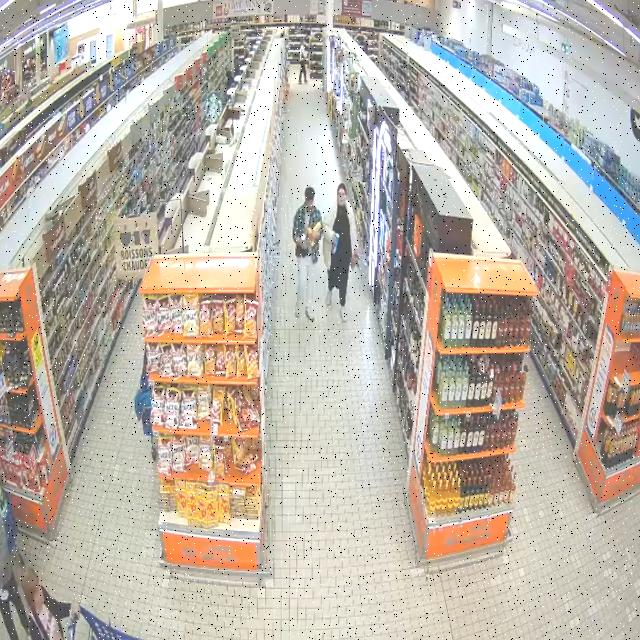article: (350, 249, 360, 271), (331, 233, 339, 254), (312, 221, 324, 232), (306, 228, 312, 235), (301, 234, 305, 242)
hands: (72, 603, 80, 618), (309, 231, 317, 241), (299, 241, 307, 250), (331, 235, 335, 243)
person: (323, 184, 358, 321), (22, 568, 79, 639), (293, 187, 322, 321), (0, 523, 28, 639), (135, 354, 157, 460)
